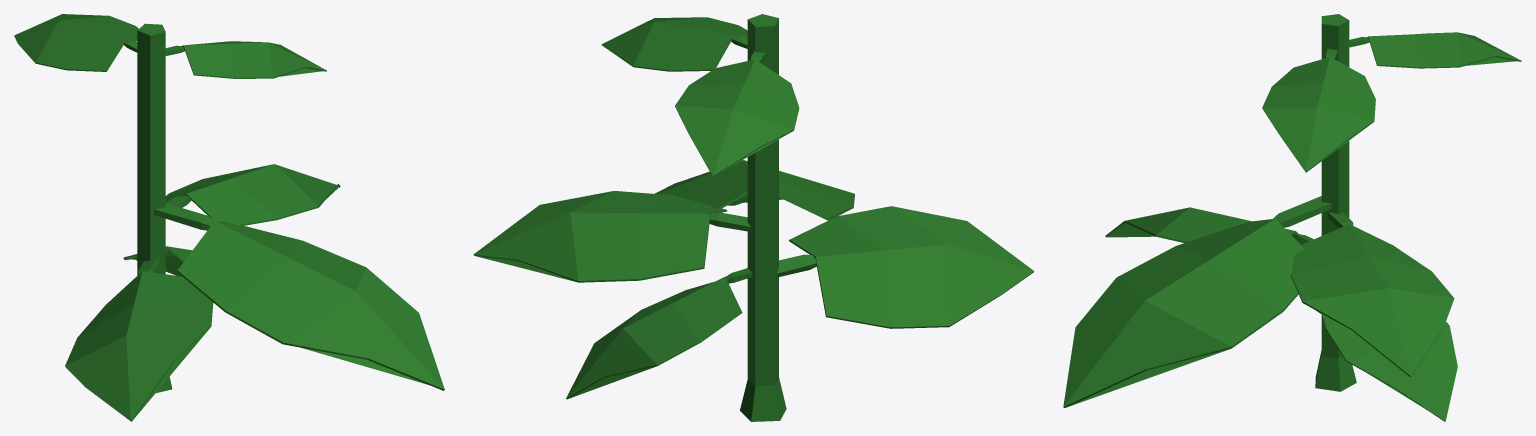
Rendered from StrawberryPlant_Stage_01.fbx.
3 renders of one model, left to right at view 1: azimuth 30°, elevation 25°; view 2: azimuth 150°, elevation 25°; view 3: azimuth 270°, elevation 25°, orthographic. The views are drawn at different scales.
Parts seen in each view (by area): view 1: StrawberryPlant_Stage_01; view 2: StrawberryPlant_Stage_01; view 3: StrawberryPlant_Stage_01.
Part boxes in pixels (<box>): StrawberryPlant_Stage_01: <box>14,14,444,421</box>; StrawberryPlant_Stage_01: <box>473,14,1034,421</box>; StrawberryPlant_Stage_01: <box>1063,14,1521,421</box>.
Bounding box in the file's own units: 149 × 137 × 157.
